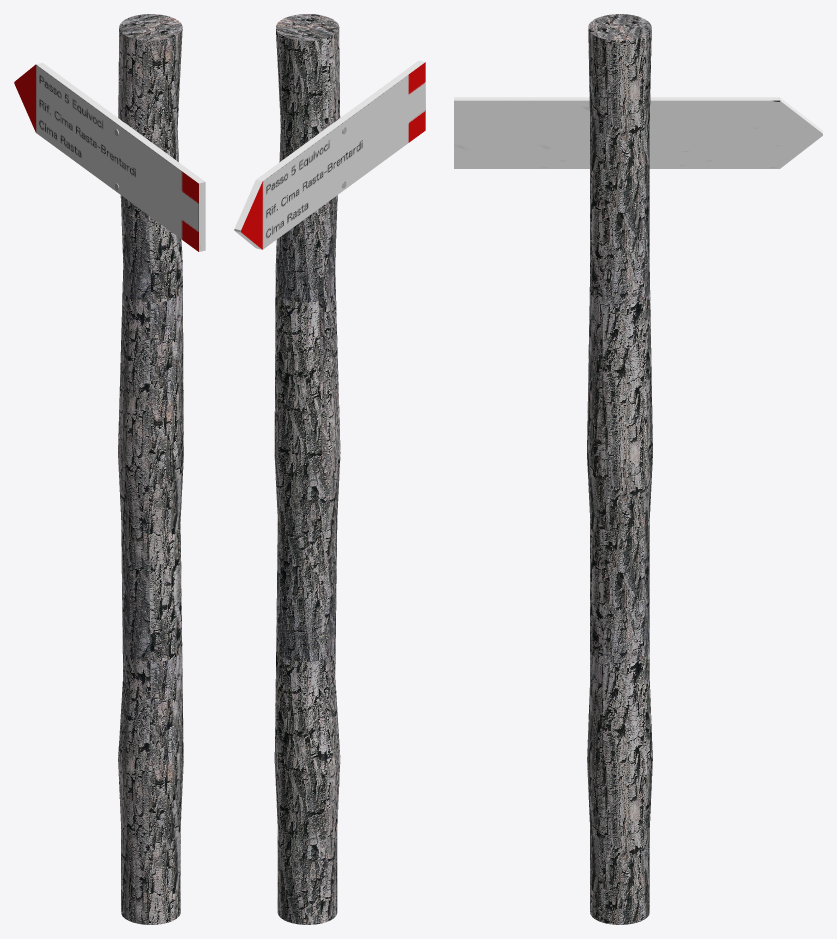
File: segnavia.fbx
The picture shows the model from 3 angles, left to right: view 1: azimuth 30°, elevation 25°; view 2: azimuth 150°, elevation 25°; view 3: azimuth 270°, elevation 25°; orthographic projection.
Visible parts, largest first — view 1: Cylinder, Cube; view 2: Cylinder, Cube; view 3: Cylinder, Cube.
Boxes of the visible parts, <box> form: Cylinder: <box>118,14,183,924</box>; Cube: <box>14,62,205,251</box>; Cylinder: <box>274,14,340,924</box>; Cube: <box>234,60,425,249</box>; Cylinder: <box>587,14,652,924</box>; Cube: <box>454,97,822,168</box>.
Bounding box in the file's own units: 0.5479 × 7.18 × 2.71.
